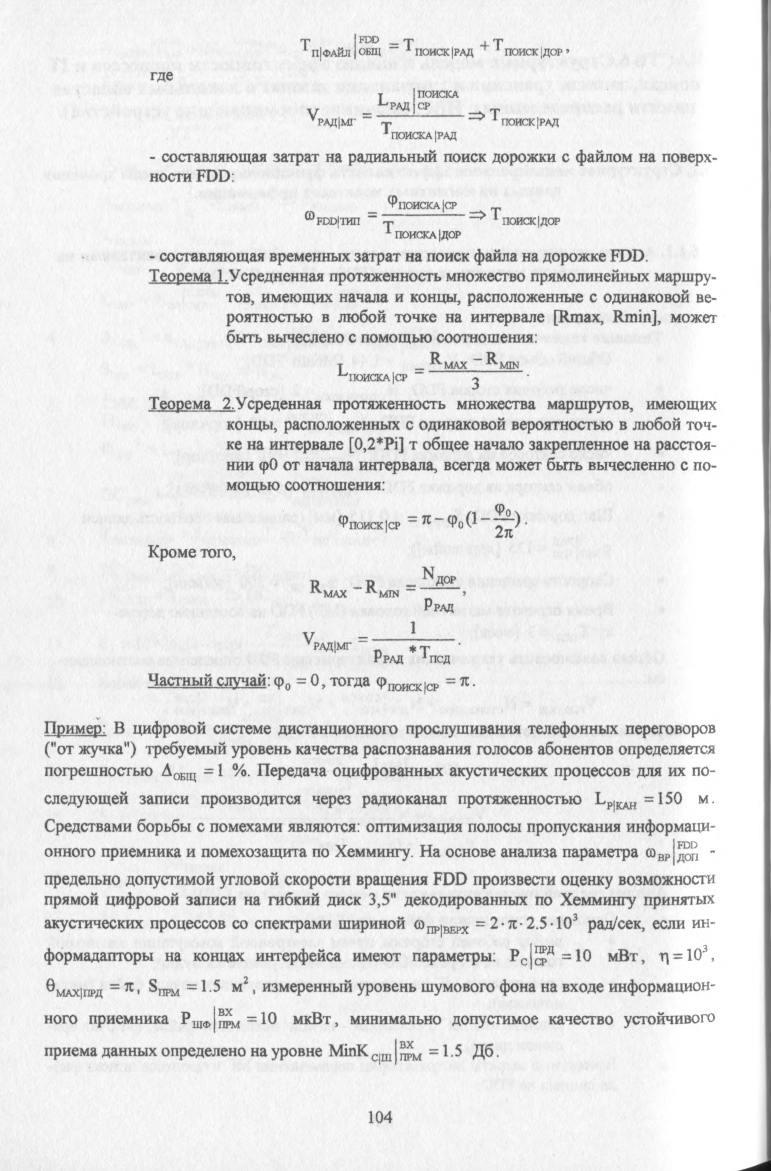T.псд: (420, 644, 452, 665)
V.рад.мг: (301, 627, 351, 654), (304, 104, 358, 128)
group: (300, 620, 459, 667)
p.рад: (372, 646, 404, 666)
